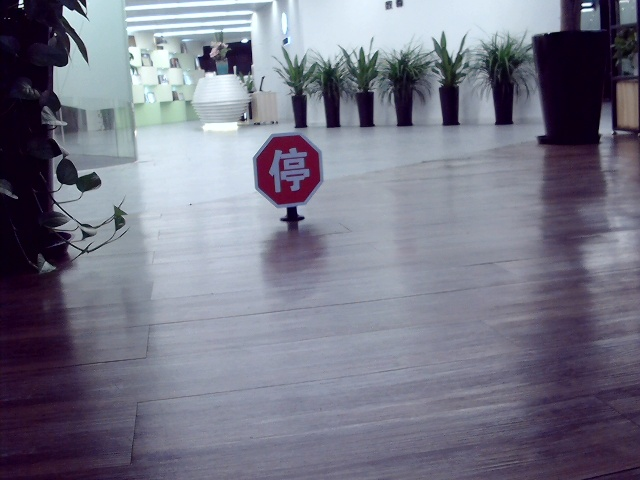stop: (265, 145, 314, 194)
